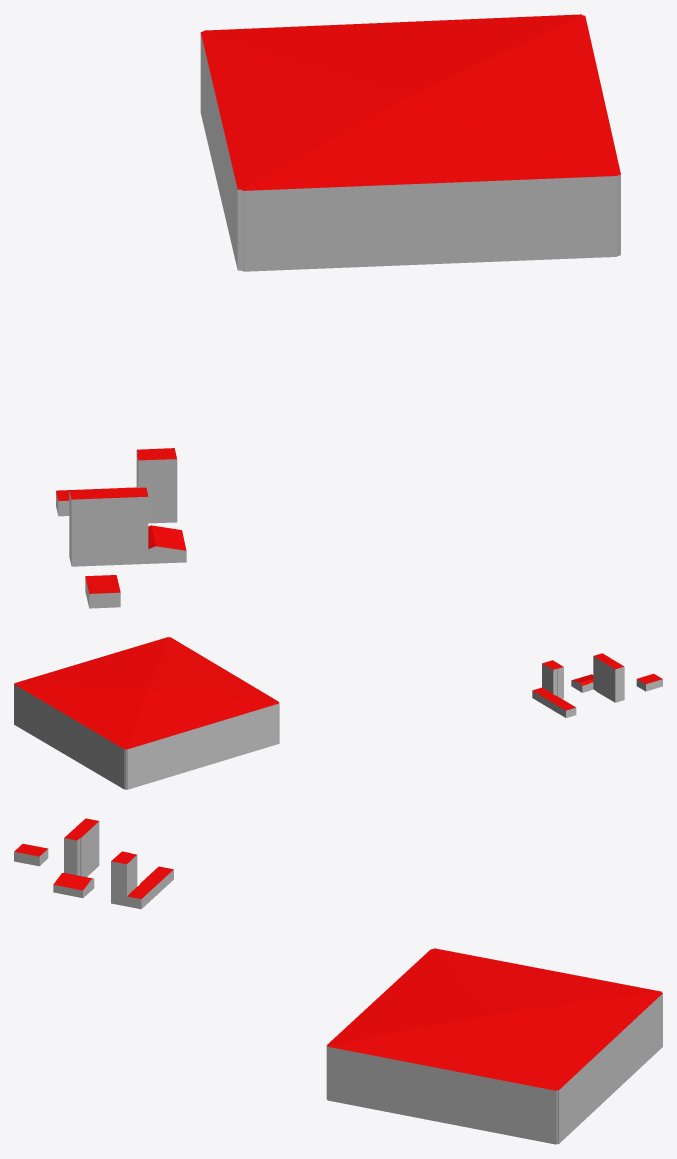
The picture shows the model from 3 angles, top to bottom: view 1: azimuth 30°, elevation 25°; view 2: azimuth 150°, elevation 25°; view 3: azimuth 270°, elevation 25°; orthographic projection. The views are drawn at different scales.
Size of the model in its own units: 147 by 13.91 by 139.
